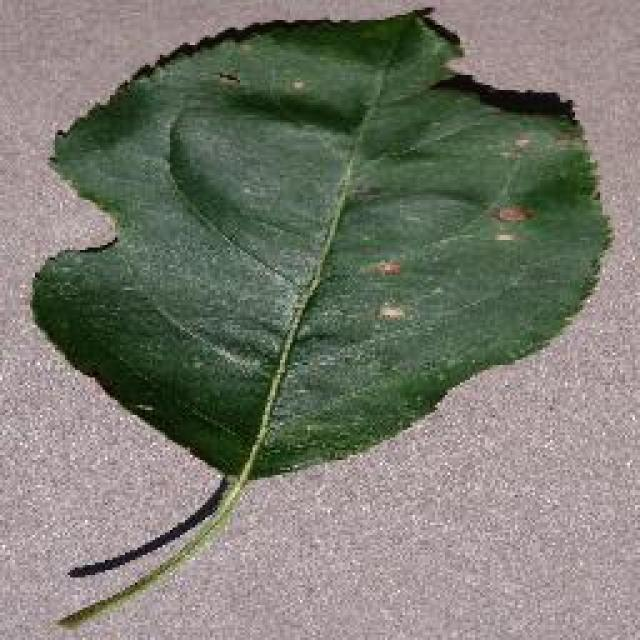Black_rot: (28, 5, 612, 630)
